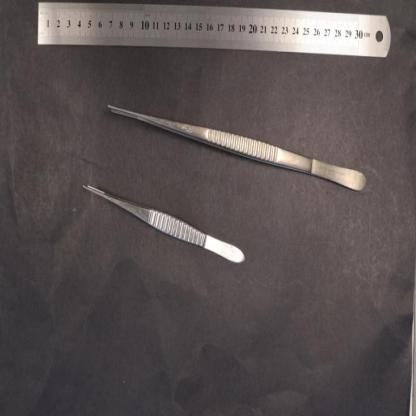DeBakey Dissector: (108, 106, 368, 194)
Gillies Toothed Dissector: (83, 184, 246, 264)
